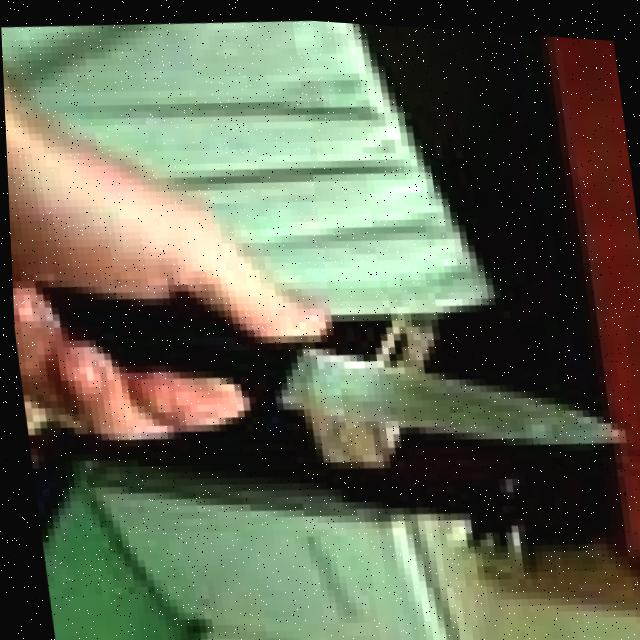knife: (238, 307, 629, 473)
